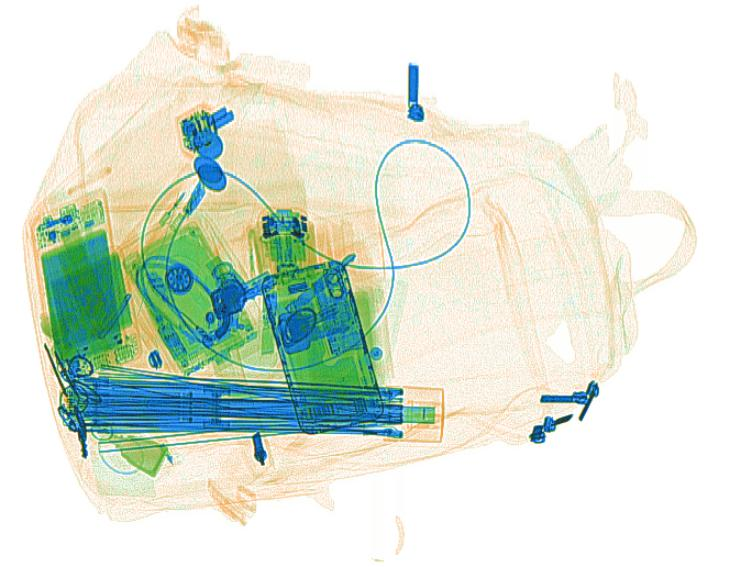USBFlashDisk: (205, 255, 254, 305)
